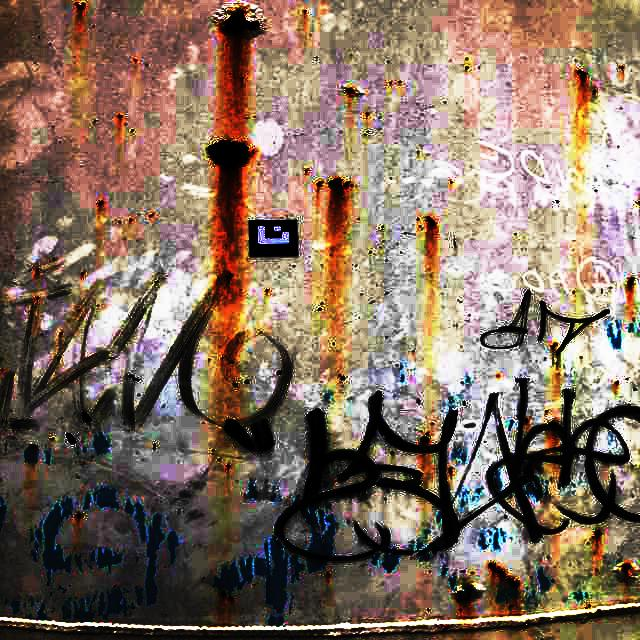Corrosion: (213, 0, 265, 40), (206, 138, 250, 171), (452, 584, 484, 603), (613, 562, 638, 583), (487, 562, 507, 579), (341, 85, 363, 96), (328, 177, 345, 191), (505, 576, 519, 589), (426, 216, 435, 227), (577, 70, 587, 79), (76, 2, 85, 11), (343, 180, 353, 188), (627, 277, 635, 286), (225, 274, 232, 283), (420, 437, 429, 444), (594, 529, 602, 536), (441, 625, 449, 631), (317, 180, 323, 187), (97, 200, 104, 206), (76, 512, 82, 518), (523, 418, 529, 424), (227, 596, 234, 601), (448, 468, 453, 474), (635, 200, 640, 206), (219, 591, 226, 595), (551, 343, 556, 348), (585, 605, 591, 609), (35, 268, 39, 273), (149, 213, 154, 217), (118, 114, 123, 118), (240, 76, 244, 80), (226, 464, 230, 468), (555, 199, 559, 203), (509, 605, 514, 608), (596, 609, 601, 612), (128, 219, 133, 222), (619, 66, 624, 69), (304, 169, 308, 172), (303, 9, 306, 13), (326, 572, 330, 575), (57, 357, 61, 360), (133, 59, 137, 62), (389, 81, 392, 84), (398, 80, 401, 83), (265, 289, 268, 292), (459, 608, 462, 611), (153, 443, 156, 446), (59, 332, 62, 335), (131, 129, 134, 132), (615, 381, 618, 384), (50, 438, 54, 440), (366, 112, 368, 115), (382, 225, 384, 228), (81, 272, 84, 274), (53, 258, 56, 260), (155, 281, 158, 283), (417, 218, 419, 220), (212, 449, 214, 451), (218, 459, 220, 461), (451, 182, 453, 183)
